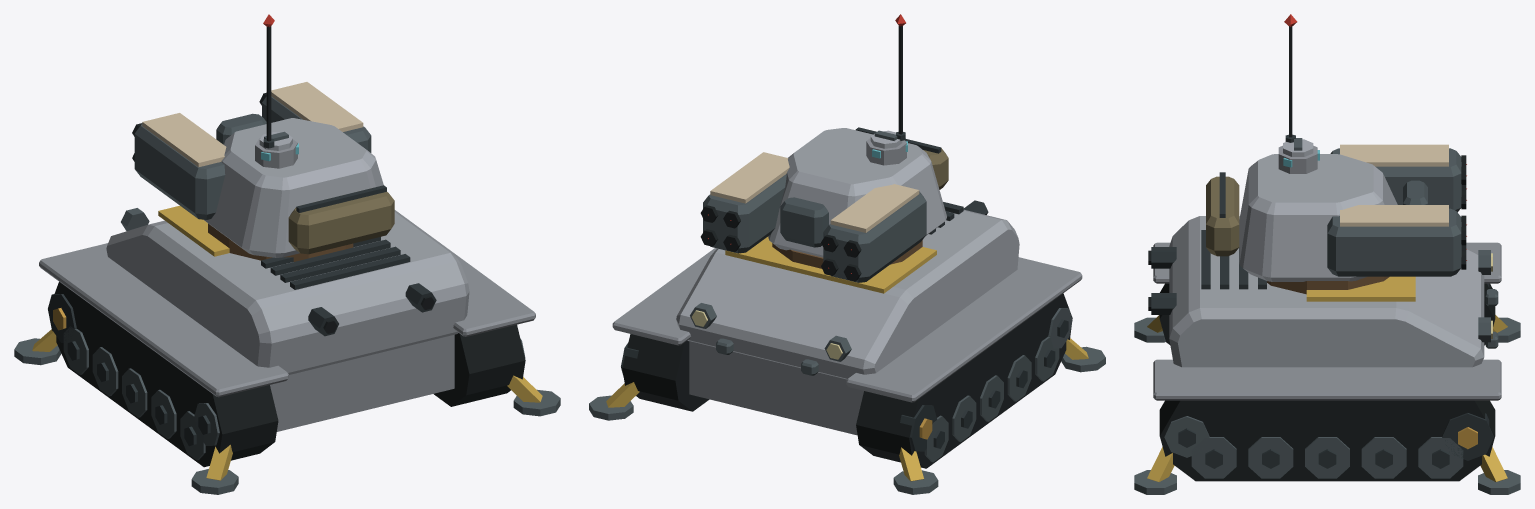
The picture shows the model from 3 angles, left to right: view 1: azimuth 30°, elevation 25°; view 2: azimuth 150°, elevation 25°; view 3: azimuth 270°, elevation 25°; orthographic projection. The views are drawn at different scales.
Parts seen in each view (by area): view 1: hull_12, turret_12; view 2: hull_12, turret_12; view 3: hull_12, turret_12.
Boxes of the visible parts, x1,y1,x2,y2 form: hull_12: (14, 205, 560, 494); turret_12: (132, 14, 394, 261); hull_12: (589, 200, 1105, 494); turret_12: (700, 14, 948, 282); hull_12: (1134, 216, 1520, 494); turret_12: (1206, 14, 1466, 294).
Size of the model in its own units: 0.9616 by 0.9964 by 0.9216.
